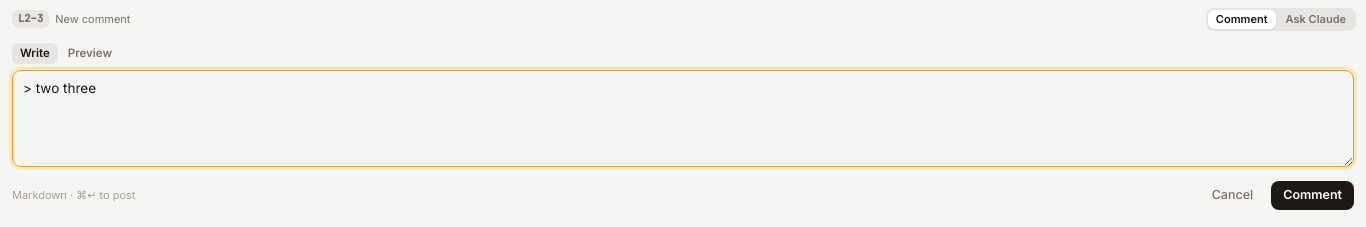
a preview error is shown as text, never as HTML
The image size is (1366, 227).
Click the button "Preview" at (90, 53), box [60,42,120,64]
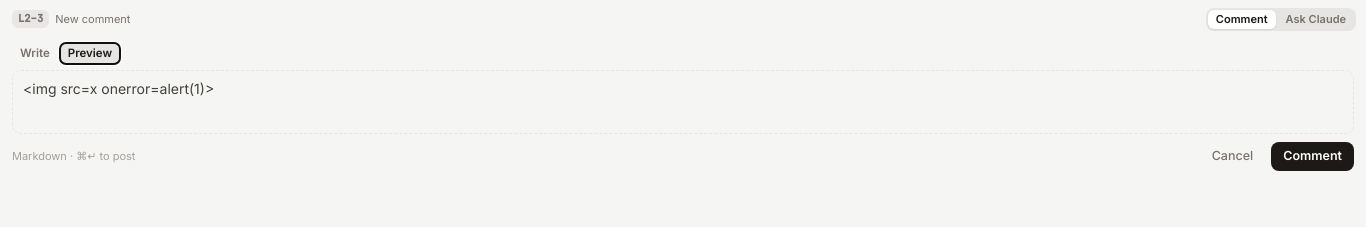
Expected: the text "<img src=x onerror=alert(1)>" is shown, [12,70,1354,134]
